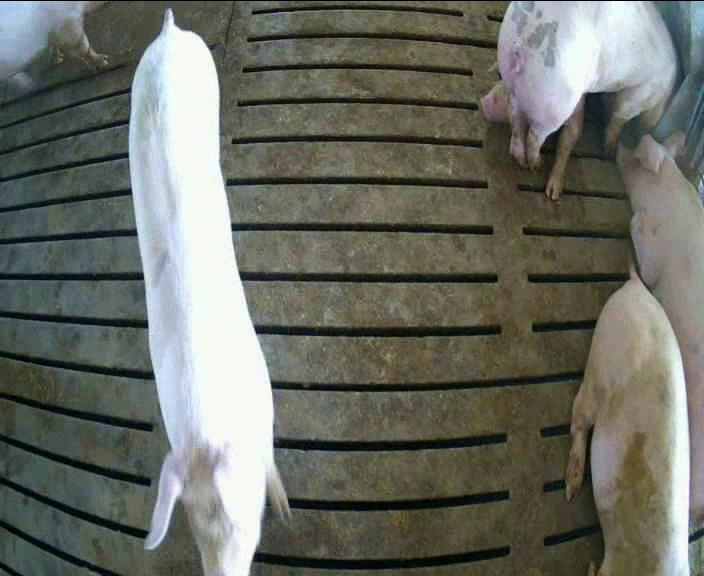pig: (129, 8, 287, 574), (566, 271, 688, 574), (617, 133, 703, 524), (498, 2, 676, 166)
